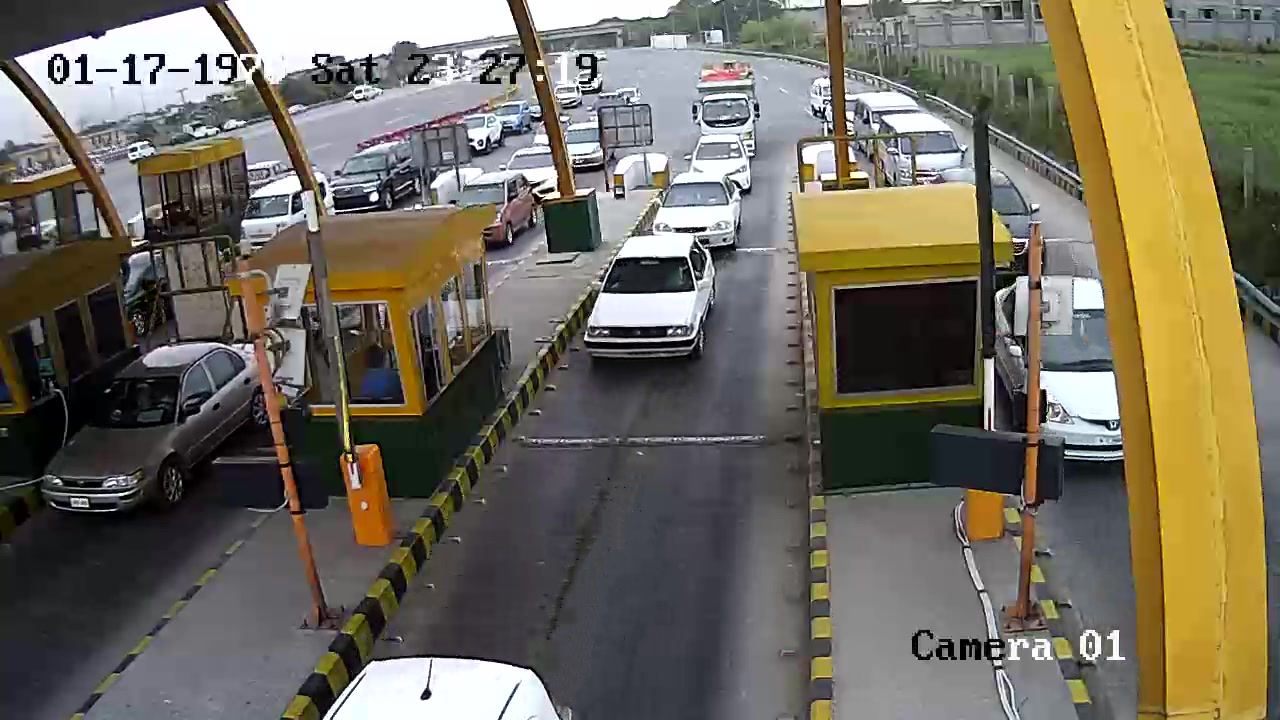F1: (577, 229, 726, 393)
